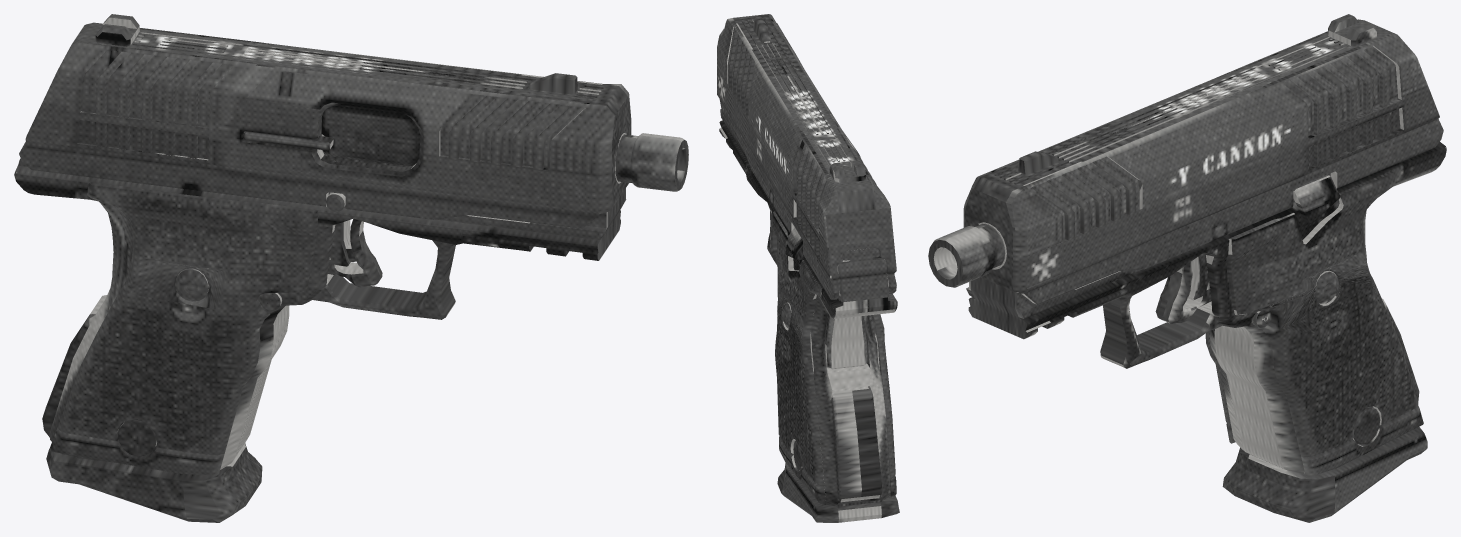
Rendered from Guns-Yeet-canon.glb.
The picture shows the model from 3 angles, left to right: view 1: azimuth 30°, elevation 25°; view 2: azimuth 150°, elevation 25°; view 3: azimuth 270°, elevation 25°; orthographic projection. The views are drawn at different scales.
Visible parts, largest first — view 1: inspect-view.side; view 2: inspect-view.side; view 3: inspect-view.side.
Boxes of the visible parts, <box> form: inspect-view.side: <box>14,14,688,522</box>; inspect-view.side: <box>717,14,899,522</box>; inspect-view.side: <box>928,14,1446,522</box>.
Bounding box in the file's own units: 3.36 × 3.28 × 3.42.
3 materials, 3 textured.
